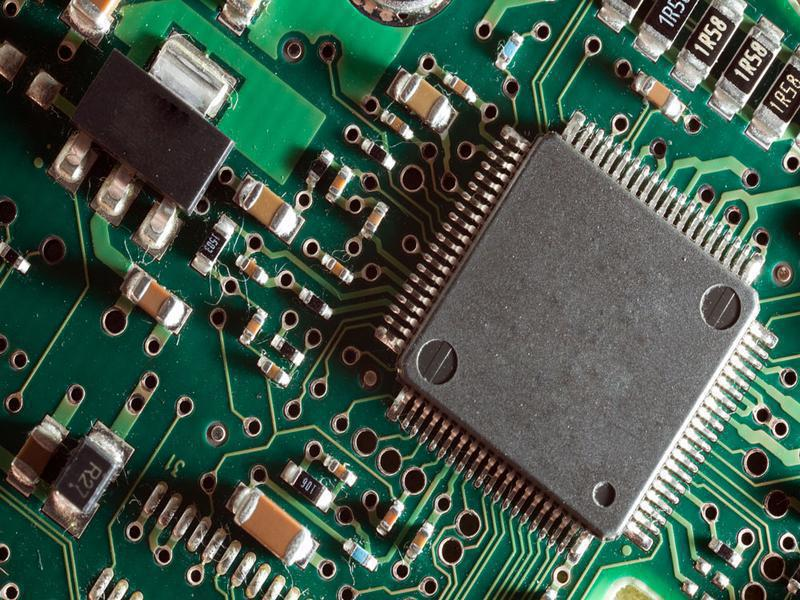SMD capacitor: (221, 486, 317, 574), (237, 177, 303, 251), (121, 272, 194, 330), (398, 71, 460, 135), (640, 76, 678, 116), (255, 358, 295, 392), (381, 110, 417, 144), (323, 253, 356, 289), (364, 201, 390, 235), (244, 312, 266, 346)
SMD resistor: (56, 427, 124, 538), (727, 22, 773, 111), (688, 1, 740, 75), (284, 466, 337, 516), (198, 216, 232, 279), (355, 136, 399, 177), (269, 330, 312, 367), (295, 285, 337, 322), (303, 148, 333, 185)
